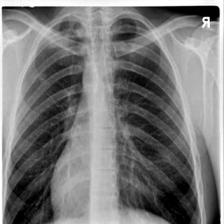tuberculosis: (4, 12, 208, 224)
